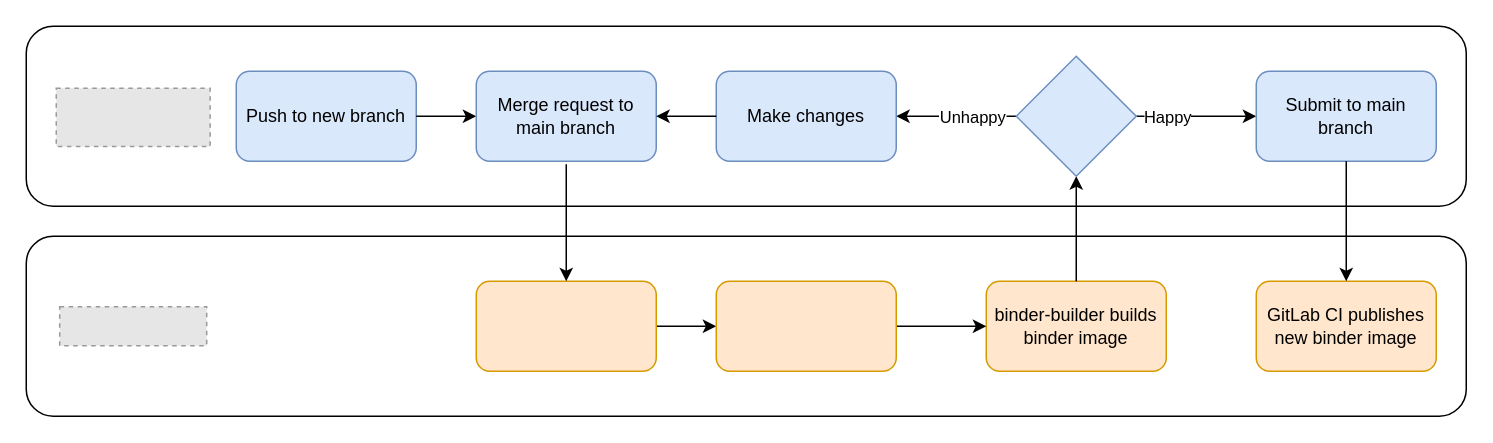
Some shapes in this 1493 by 443 pixel diagram are drawn without their labels. Grey dashed boxes stand in for pictures. The box of each missing label's shape, as (x1, y1, x2, y2) in pixels:
GitLab CI reads .gitlab-ci.yml: (475, 280, 656, 371)
GitLab CI runs binder-builder Docker image: (715, 280, 896, 371)
People review changes: (1015, 55, 1136, 176)
